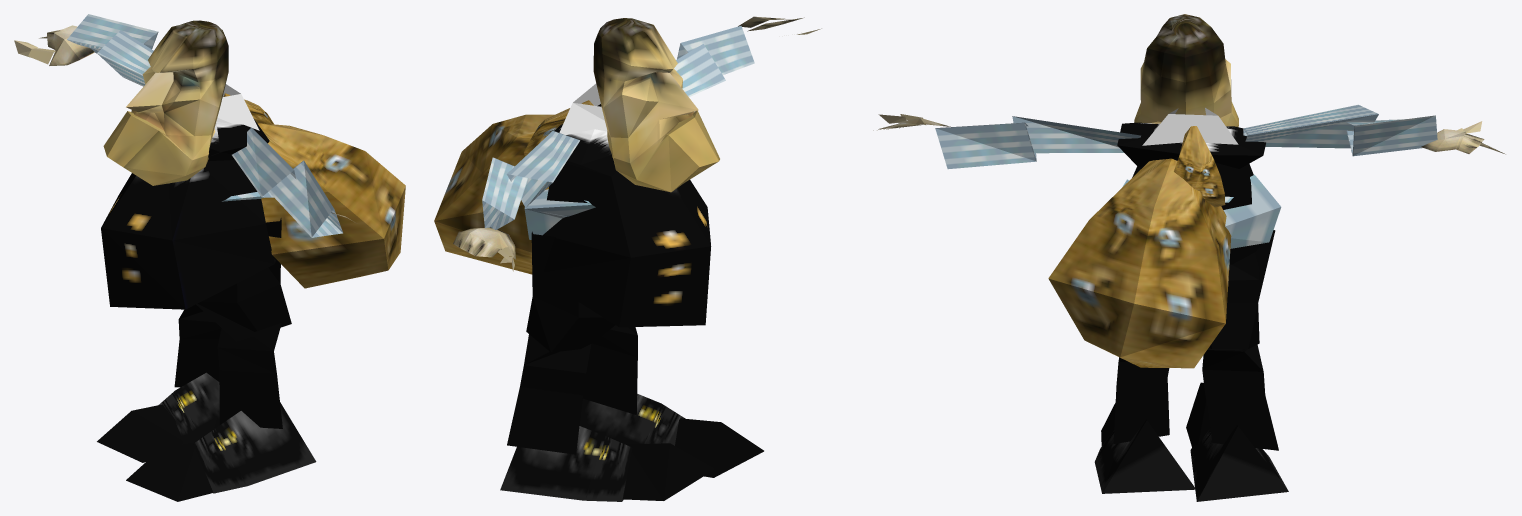
File: John Freitag_2780.glb
3 renders of one model, left to right at view 1: azimuth 30°, elevation 25°; view 2: azimuth 150°, elevation 25°; view 3: azimuth 270°, elevation 25°, orthographic. The views are drawn at different scales.
Visible parts, largest first — view 1: pSphereShape1, Bag3, pirat_pSphereShape1, pCylinderShape13, sumo_Hhackler_pCylinderShape48, sumo_Hhackler_pCylinderShape46, pCylinderShape14, pCylinderShape18, pCylinderShape41, sumo_Hhackler_pCylinderShape47, pCylinderShape17, pCylinderShape53 (+4 smaller); view 2: pSphereShape1, pirat_pSphereShape1, Bag3, sumo_Hhackler_pCylinderShape47, pCylinderShape17, sumo_Hhackler_pCylinderShape45, sumo_Hhackler_pCylinderShape48, pCylinderShape18, pCylinderShape13, pCylinderShape14, pCylinderShape40, pCylinderShape54 (+7 smaller); view 3: Bag3, pirat_pSphereShape1, sumo_Hhackler_pCylinderShape47, pSphereShape1, pCylinderShape17, pCylinderShape13, pCylinderShape41, sumo_Hhackler_pCylinderShape48, pCylinderShape40, sumo_Hhackler_pCylinderShape45, pCylinderShape54, pCylinderShape53 (+4 smaller).
Part boxes in pixels (x1,y1,x2,y2): pSphereShape1: (101,118,275,309); Bag3: (257,123,405,288); pirat_pSphereShape1: (103,20,228,185); pCylinderShape13: (193,402,316,493); sumo_Hhackler_pCylinderShape48: (217,322,282,428); sumo_Hhackler_pCylinderShape46: (196,218,291,341); pCylinderShape14: (126,442,213,501); pCylinderShape18: (97,404,183,462); pCylinderShape41: (269,160,342,237); sumo_Hhackler_pCylinderShape47: (174,304,221,387); pCylinderShape17: (158,372,219,444); pCylinderShape53: (232,127,295,197); pSphereShape1: (540,104,711,327); pirat_pSphereShape1: (593,18,719,192); Bag3: (434,114,554,274); sumo_Hhackler_pCylinderShape47: (507,334,591,454); pCylinderShape17: (500,426,632,501); sumo_Hhackler_pCylinderShape45: (526,231,615,352); sumo_Hhackler_pCylinderShape48: (582,325,637,414); pCylinderShape18: (622,443,714,500); pCylinderShape13: (579,394,684,445); pCylinderShape14: (675,418,763,477); pCylinderShape40: (507,131,580,207); pCylinderShape54: (482,157,528,229); Bag3: (1048,158,1231,368); pirat_pSphereShape1: (1134,14,1238,127); sumo_Hhackler_pCylinderShape47: (1202,344,1278,450); pSphereShape1: (1117,122,1265,280); pCylinderShape17: (1190,425,1288,501); pCylinderShape13: (1094,419,1196,493); pCylinderShape41: (935,122,1036,169); sumo_Hhackler_pCylinderShape48: (1113,357,1169,443); pCylinderShape40: (1243,104,1378,148); sumo_Hhackler_pCylinderShape45: (1209,230,1275,348); pCylinderShape54: (1346,115,1437,156); pCylinderShape53: (1012,116,1140,153).
Bounding box in the file's own units: 0.1276 × 0.1855 × 0.2514.
Materials: 29 (22 with a texture image).
